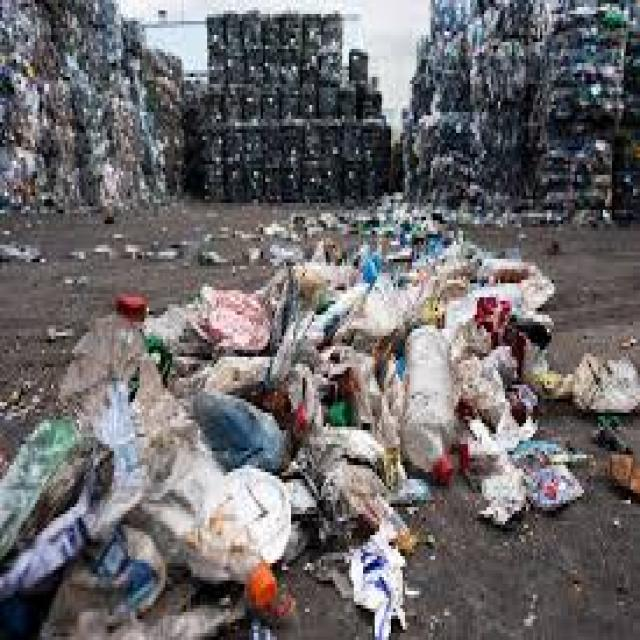plastic: (84, 328, 589, 496)
